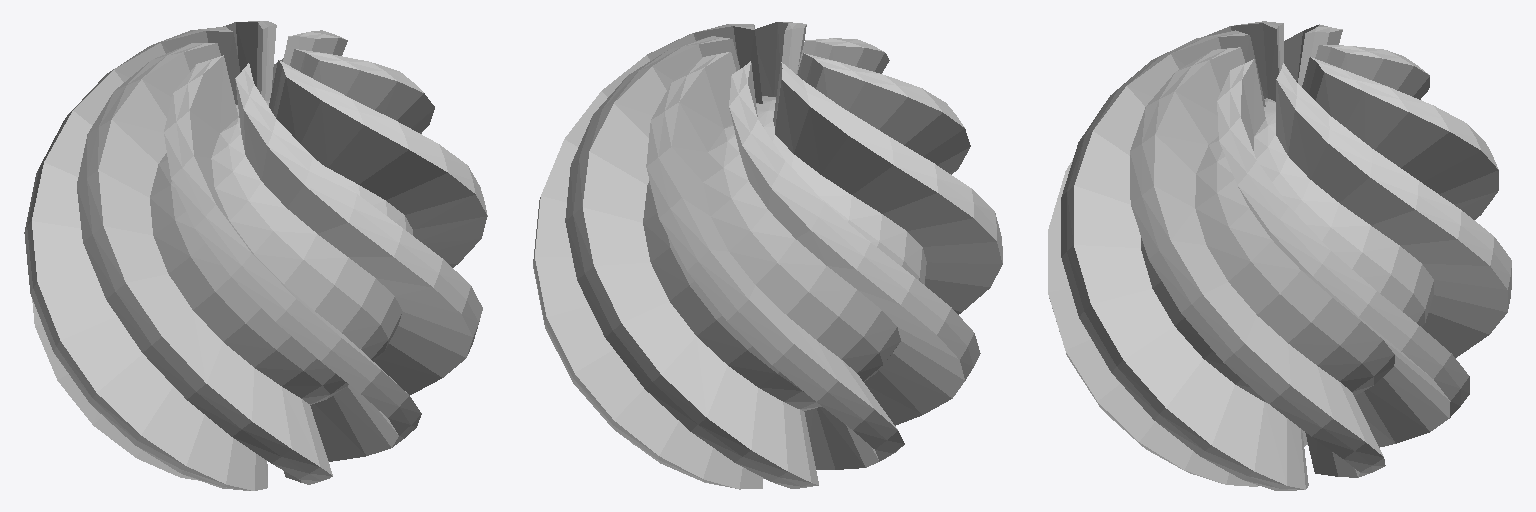
File: ball.obj
3 renders of one model, left to right at view 1: azimuth 30°, elevation 25°; view 2: azimuth 150°, elevation 25°; view 3: azimuth 270°, elevation 25°, orthographic.
Visible parts, largest first — view 1: Sphere; view 2: Sphere; view 3: Sphere.
Part boxes in pixels (bbox=[...]): Sphere: bbox=[24, 21, 487, 490]; Sphere: bbox=[533, 22, 1002, 489]; Sphere: bbox=[1048, 21, 1511, 490].
Bounding box in the file's own units: 2.9 × 2.89 × 2.9.